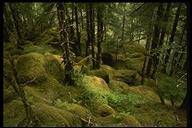tree: (3, 2, 186, 124)
